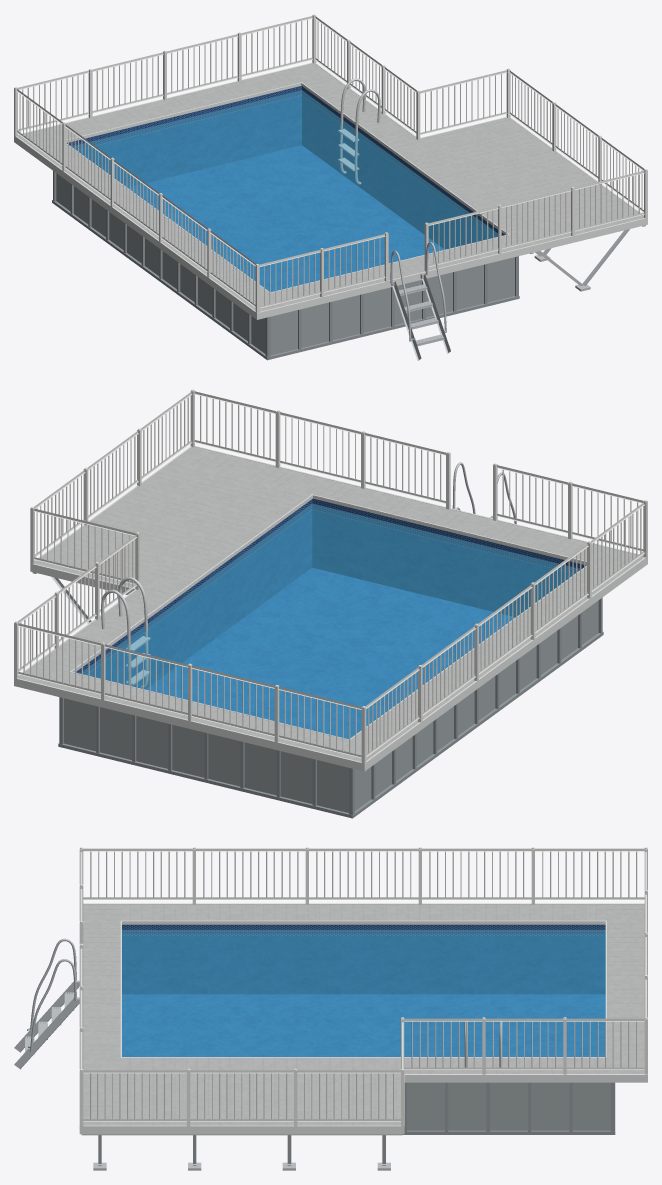
The model's file is kayak-pool-16x24-gray-l-ag-fence.9907c914ee.glb.
3 renders of one model, top to bottom at view 1: azimuth 30°, elevation 25°; view 2: azimuth 150°, elevation 25°; view 3: azimuth 270°, elevation 25°, orthographic. The views are drawn at different scales.
Parts seen in each view (by area): view 1: water, deck, fence, liner_floor, liner_wall, wall, fascia, upright, ladder, steel, stud; view 2: water, deck, fence, liner_floor, liner_wall, wall, fascia, upright, steel; view 3: water, deck, liner_wall, liner_floor, fence, fascia, wall, ladder, upright, stud.
Boxes of the visible parts, x1,y1,x2,y2 form: water: (72, 90, 497, 291); deck: (17, 63, 643, 311); fence: (14, 14, 647, 312); liner_floor: (128, 145, 443, 291); liner_wall: (66, 86, 504, 249); wall: (56, 173, 514, 355); fascia: (14, 62, 647, 319); upright: (52, 171, 519, 360); ladder: (390, 242, 450, 360); steel: (338, 78, 380, 184); stud: (530, 225, 645, 291); water: (80, 504, 579, 738); deck: (18, 446, 643, 761); fence: (14, 389, 647, 763); liner_floor: (146, 568, 515, 738); liner_wall: (76, 498, 586, 689); wall: (64, 600, 598, 812); fascia: (14, 446, 647, 771); upright: (58, 597, 603, 818); steel: (101, 577, 150, 688); water: (122, 930, 605, 1056); deck: (79, 904, 644, 1129); liner_wall: (122, 924, 605, 994); liner_floor: (122, 994, 605, 1056); fence: (79, 847, 647, 1133); fascia: (80, 903, 647, 1134); wall: (407, 1082, 610, 1130); ladder: (14, 938, 79, 1069); upright: (402, 1082, 615, 1134); stud: (81, 1134, 402, 1170).
Size of the model in its own units: 7.93 by 2.15 by 9.52.
Materials: 11 (3 with a texture image).
